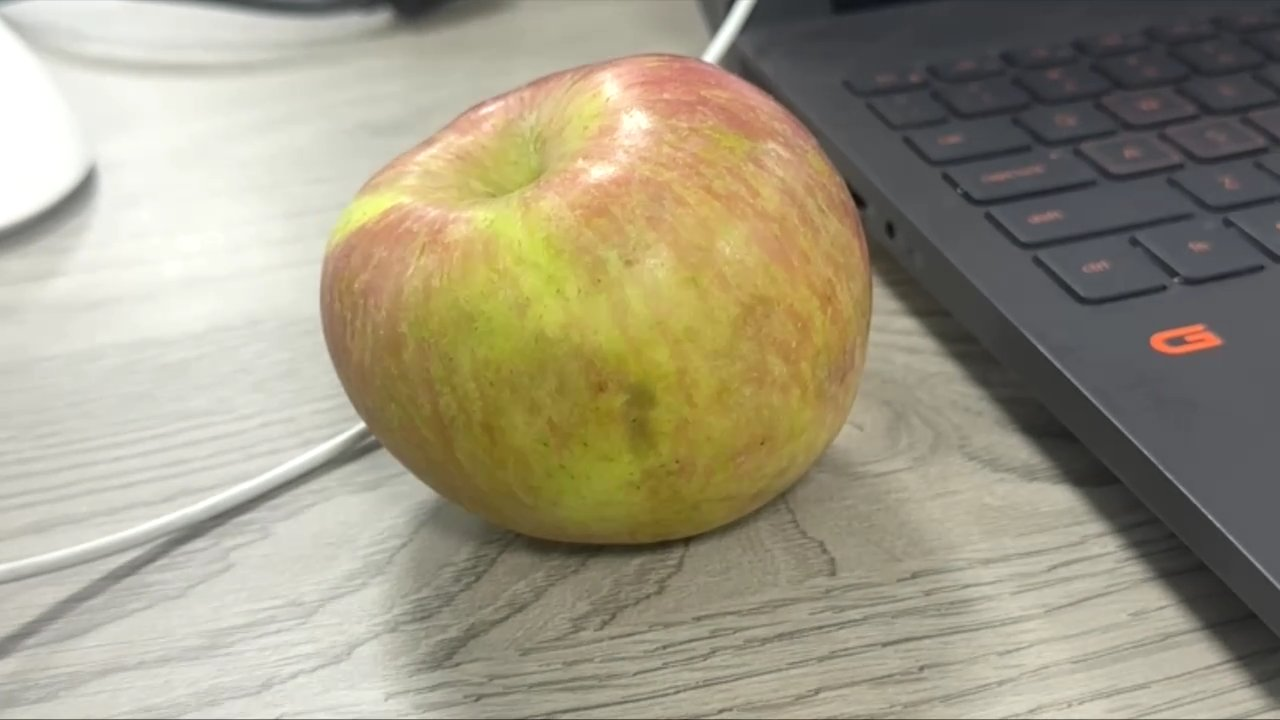apple_rotten: (308, 54, 890, 551)
